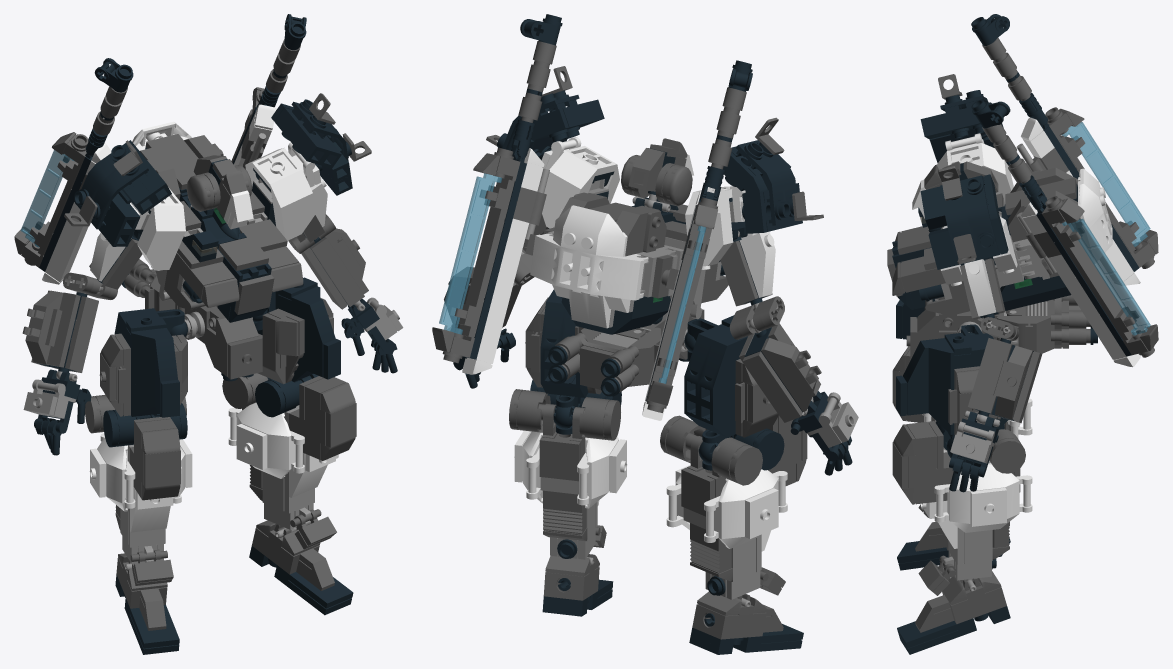
Rendered from fh-00-gungnir.dae.
3 views of the same model, side by side, from view 1: azimuth 30°, elevation 25°; view 2: azimuth 150°, elevation 25°; view 3: azimuth 270°, elevation 25° (orthographic). The views are drawn at different scales.
Bounding box in the file's own units: 464 × 301 × 668.
